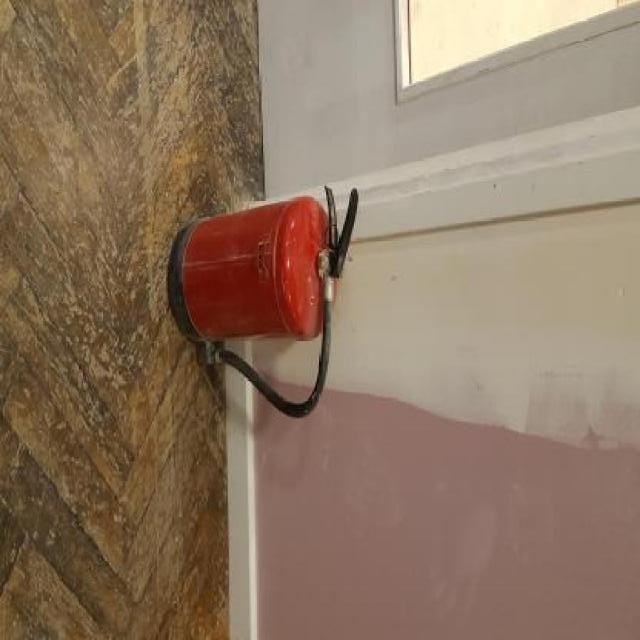fire extinguisher: (167, 183, 358, 419)
